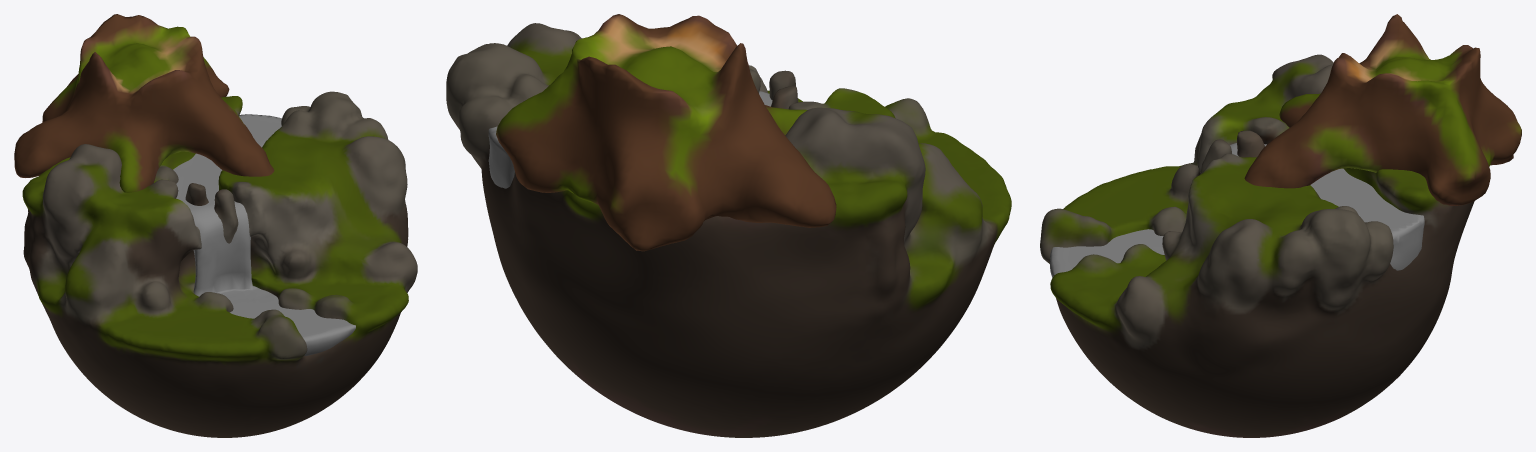
Rendered from blockout v1.fbx.
3 views of the same model, side by side, from view 1: azimuth 30°, elevation 25°; view 2: azimuth 150°, elevation 25°; view 3: azimuth 270°, elevation 25° (orthographic). The views are drawn at different scales.
Visible parts, largest first — view 1: UMesh_PolySphere1, UMesh_PolySphere2, UMesh_PolySphere2_1; view 2: UMesh_PolySphere1, UMesh_PolySphere2, UMesh_PolySphere2_1; view 3: UMesh_PolySphere1, UMesh_PolySphere2, UMesh_PolySphere2_1.
Boxes of the visible parts, left/top/right/bottom form: UMesh_PolySphere1: left=22, top=91, right=417, bottom=437; UMesh_PolySphere2: left=14, top=14, right=274, bottom=192; UMesh_PolySphere2_1: left=173, top=114, right=355, bottom=355; UMesh_PolySphere1: left=446, top=23, right=1011, bottom=437; UMesh_PolySphere2: left=496, top=14, right=836, bottom=251; UMesh_PolySphere2_1: left=488, top=91, right=772, bottom=188; UMesh_PolySphere1: left=1040, top=54, right=1474, bottom=437; UMesh_PolySphere2: left=1244, top=14, right=1521, bottom=205; UMesh_PolySphere2_1: left=1050, top=143, right=1424, bottom=277.
Bounding box in the file's own units: 1.37 × 1.27 × 1.5.
